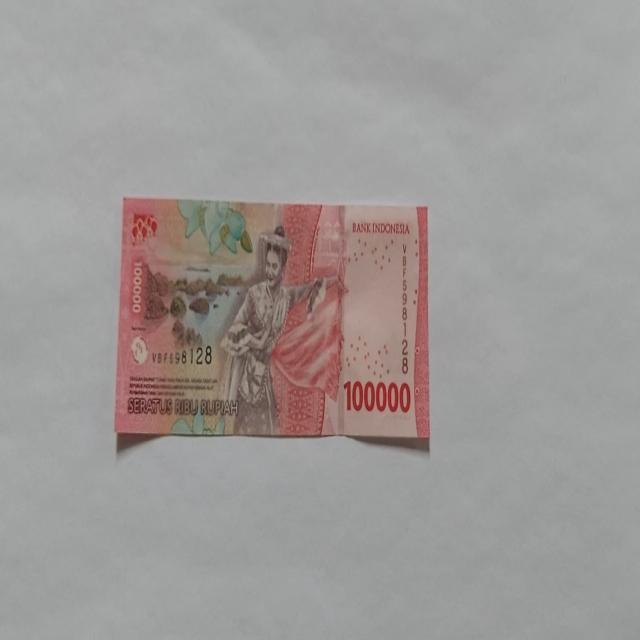seratus ribu rupiah: (114, 196, 430, 442), (216, 224, 338, 436)
